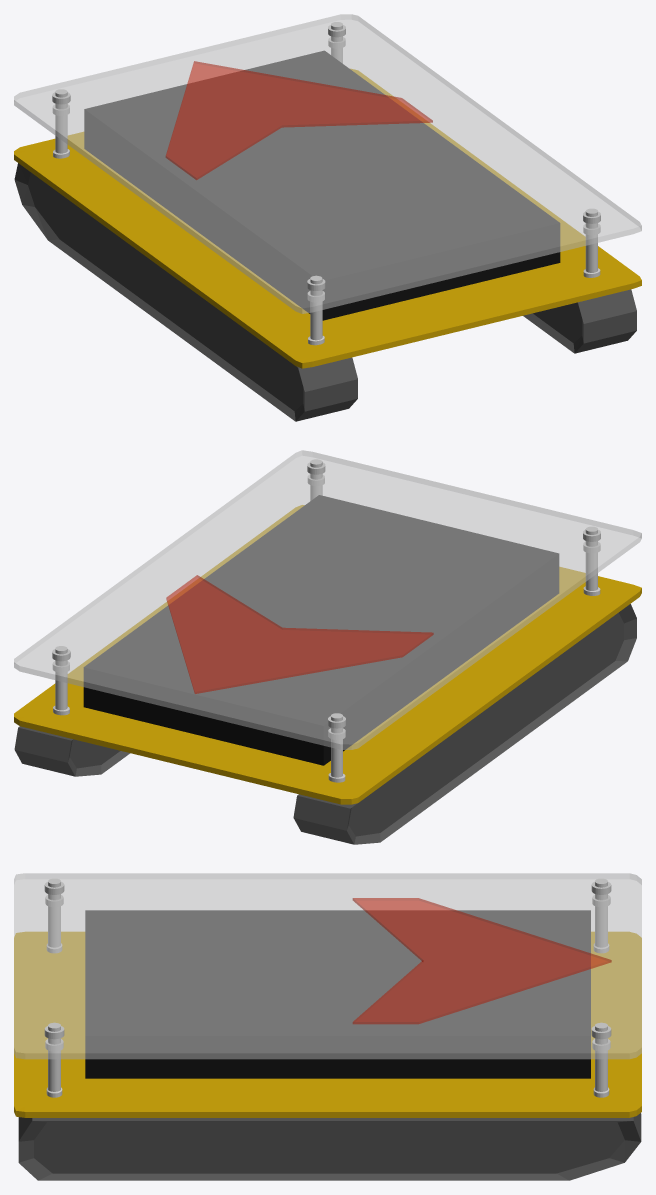
File: AkiBot.dae
3 renders of one model, top to bottom at view 1: azimuth 30°, elevation 25°; view 2: azimuth 150°, elevation 25°; view 3: azimuth 270°, elevation 25°, orthographic. The views are drawn at different scales.
Parts seen in each view (by area): view 1: UpperBody, Cube, BottomBody, Cube_002, Cube_001, Circle_001; view 2: UpperBody, Cube, BottomBody, Cube_002, Cube_001, Circle_001; view 3: UpperBody, Cube, BottomBody, Cube_002, Cube_001, Circle_001.
Part boxes in pixels (<box>): UpperBody: <box>14,14,641,313</box>; Cube: <box>84,51,560,320</box>; BottomBody: <box>14,69,641,368</box>; Cube_002: <box>14,163,636,421</box>; Cube_001: <box>165,61,432,179</box>; Circle_001: <box>52,22,600,345</box>; UpperBody: <box>14,450,641,749</box>; Cube: <box>83,495,558,765</box>; BottomBody: <box>14,505,641,804</box>; Cube_002: <box>14,604,636,844</box>; Cube_001: <box>166,575,433,693</box>; Circle_001: <box>52,459,600,782</box>; UpperBody: <box>14,873,641,1059</box>; Cube: <box>85,910,590,1078</box>; BottomBody: <box>14,932,641,1117</box>; Cube_002: <box>18,1113,641,1180</box>; Cube_001: <box>352,898,611,1024</box>; Circle_001: <box>44,878,611,1097</box>.
Size of the model in its own units: 12.9 by 19 by 4.69.
